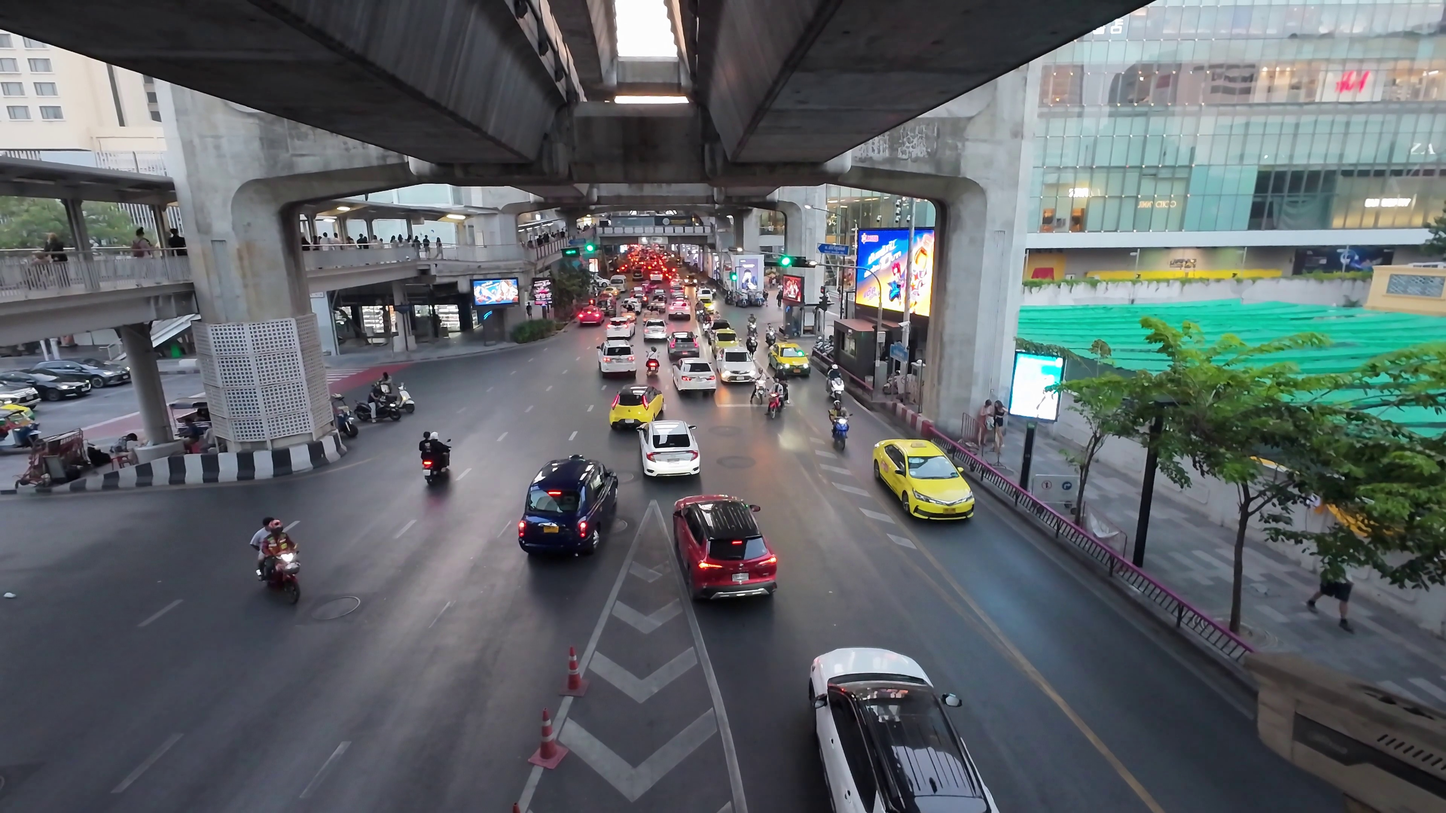license_plate: (699, 559, 753, 595), (542, 515, 593, 548), (897, 489, 948, 517), (25, 385, 76, 399), (655, 456, 687, 476), (264, 576, 290, 596), (688, 380, 708, 392)
motorcycle: (252, 521, 302, 600)
no_seatbelt: (688, 510, 764, 565), (531, 469, 603, 521), (887, 449, 958, 493), (15, 366, 87, 387), (649, 429, 693, 459), (684, 363, 712, 382)
